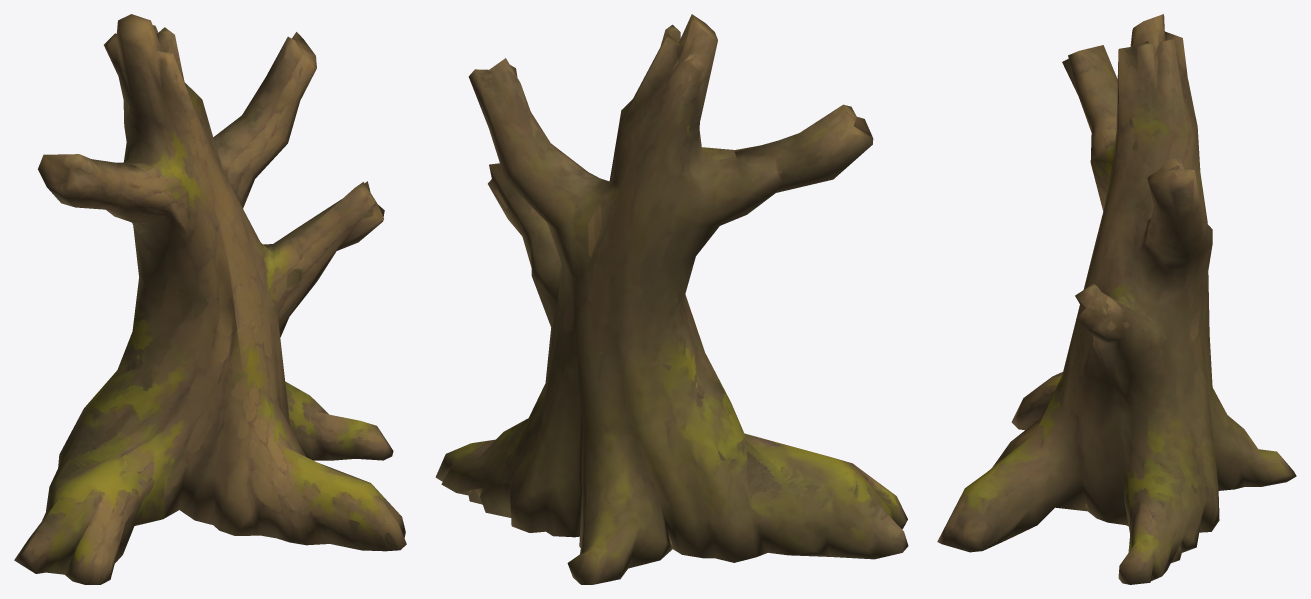
File: SM_FR_TreeTrunkForked.fbx
3 renders of one model, left to right at view 1: azimuth 30°, elevation 25°; view 2: azimuth 150°, elevation 25°; view 3: azimuth 270°, elevation 25°, orthographic. The views are drawn at different scales.
Parts seen in each view (by area): view 1: SM_FR_TreeTrunkForked; view 2: SM_FR_TreeTrunkForked; view 3: SM_FR_TreeTrunkForked.
Part boxes in pixels (bbox=[...]): SM_FR_TreeTrunkForked: bbox=[14, 14, 406, 584]; SM_FR_TreeTrunkForked: bbox=[435, 14, 908, 584]; SM_FR_TreeTrunkForked: bbox=[937, 14, 1296, 584].
Size of the model in its own units: 3.71 by 4.3 by 3.05.
1 material, 1 textured.
